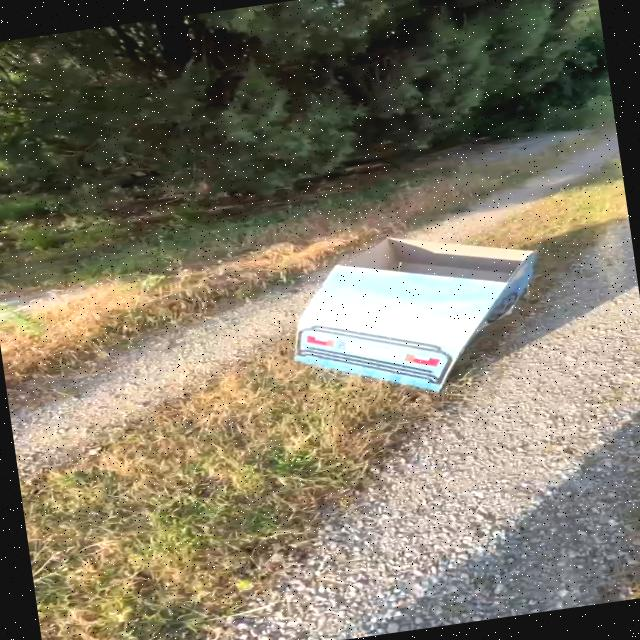blue_car: (229, 189, 603, 441)
